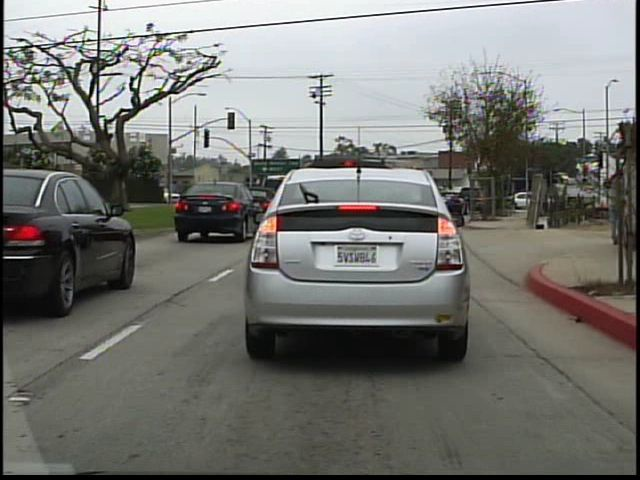person: (612, 160, 623, 250)
